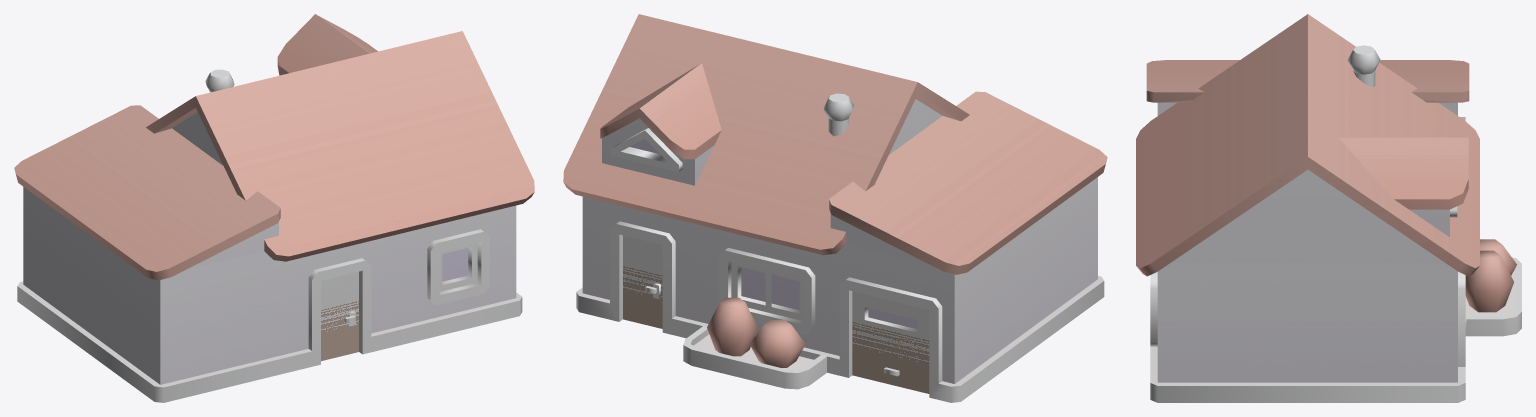
The model's file is suburban-building-type-i.glb.
3 views of the same model, side by side, from view 1: azimuth 30°, elevation 25°; view 2: azimuth 150°, elevation 25°; view 3: azimuth 270°, elevation 25° (orthographic). The views are drawn at different scales.
Visible parts, largest first — view 1: building-type-i; view 2: building-type-i; view 3: building-type-i.
Part boxes in pixels (x1,y1,x2,y2): building-type-i: (14, 14, 534, 402); building-type-i: (563, 14, 1107, 402); building-type-i: (1136, 14, 1521, 402).
Size of the model in its own units: 1.29 by 0.7375 by 1.03.
Materials: 1 (1 with a texture image).
